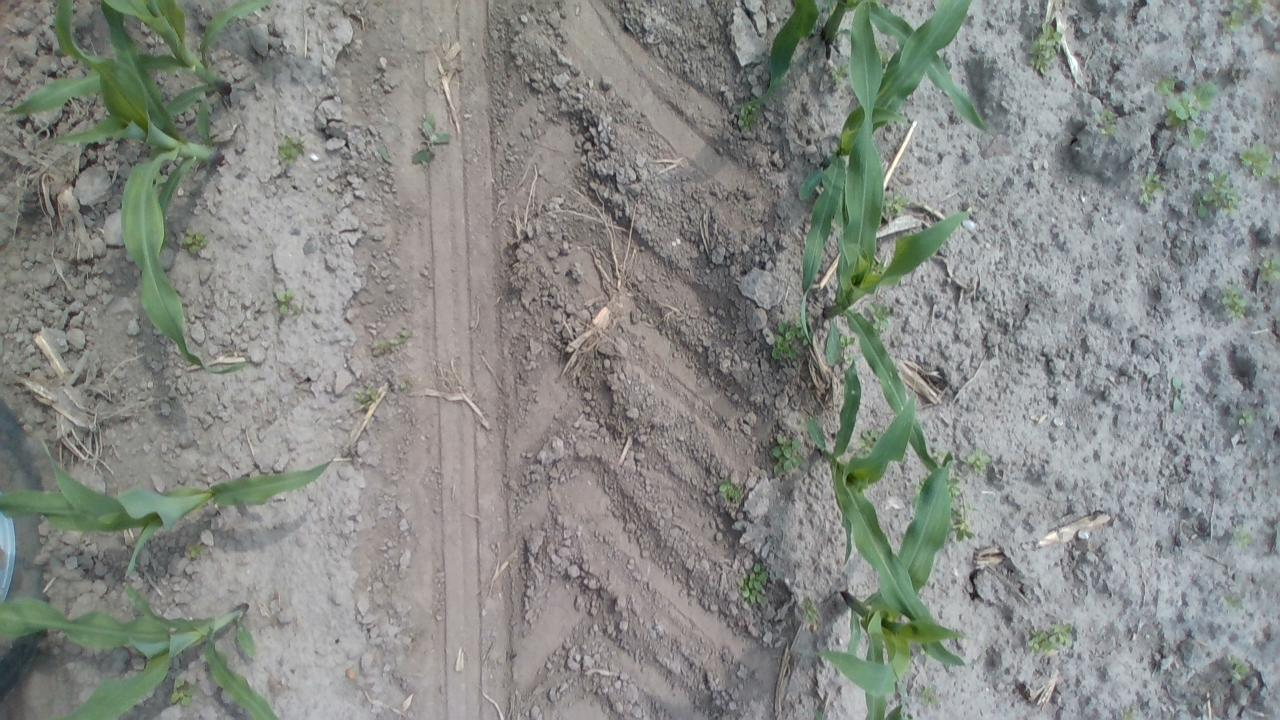Maize: (52, 0, 257, 374), (824, 0, 974, 479), (795, 0, 992, 343), (804, 364, 968, 669), (0, 436, 345, 578), (810, 443, 960, 720), (0, 582, 284, 720), (7, 1, 277, 146), (752, 4, 999, 138), (814, 614, 912, 720), (749, 1, 838, 114)
Weeds: (1160, 77, 1218, 150), (1026, 23, 1068, 80), (1196, 167, 1242, 219), (411, 110, 453, 166), (734, 560, 772, 611), (772, 315, 812, 360), (768, 434, 808, 478), (1028, 620, 1074, 654), (1219, 0, 1269, 31), (1237, 138, 1274, 179), (276, 128, 312, 167), (370, 326, 414, 357), (1135, 165, 1166, 207), (176, 224, 214, 257), (165, 674, 199, 710), (1218, 284, 1252, 320), (735, 97, 764, 137), (269, 286, 303, 319), (347, 382, 383, 412), (951, 500, 976, 541), (880, 190, 911, 222), (866, 300, 894, 332), (798, 596, 822, 633), (1166, 373, 1188, 412), (716, 475, 744, 505), (964, 444, 990, 476), (1094, 109, 1121, 136), (856, 426, 882, 454), (1220, 590, 1248, 616), (916, 682, 941, 710), (828, 60, 852, 89), (1223, 656, 1249, 682), (1260, 252, 1280, 285), (1230, 526, 1254, 552), (1154, 74, 1176, 98), (373, 140, 395, 164), (184, 541, 208, 561), (948, 472, 963, 503), (868, 253, 886, 277), (394, 374, 414, 395), (911, 478, 926, 506), (878, 50, 892, 75), (1238, 408, 1256, 427), (1120, 704, 1136, 719), (154, 170, 166, 189), (932, 450, 948, 463), (836, 352, 854, 363), (839, 334, 855, 346), (1271, 172, 1280, 186)
